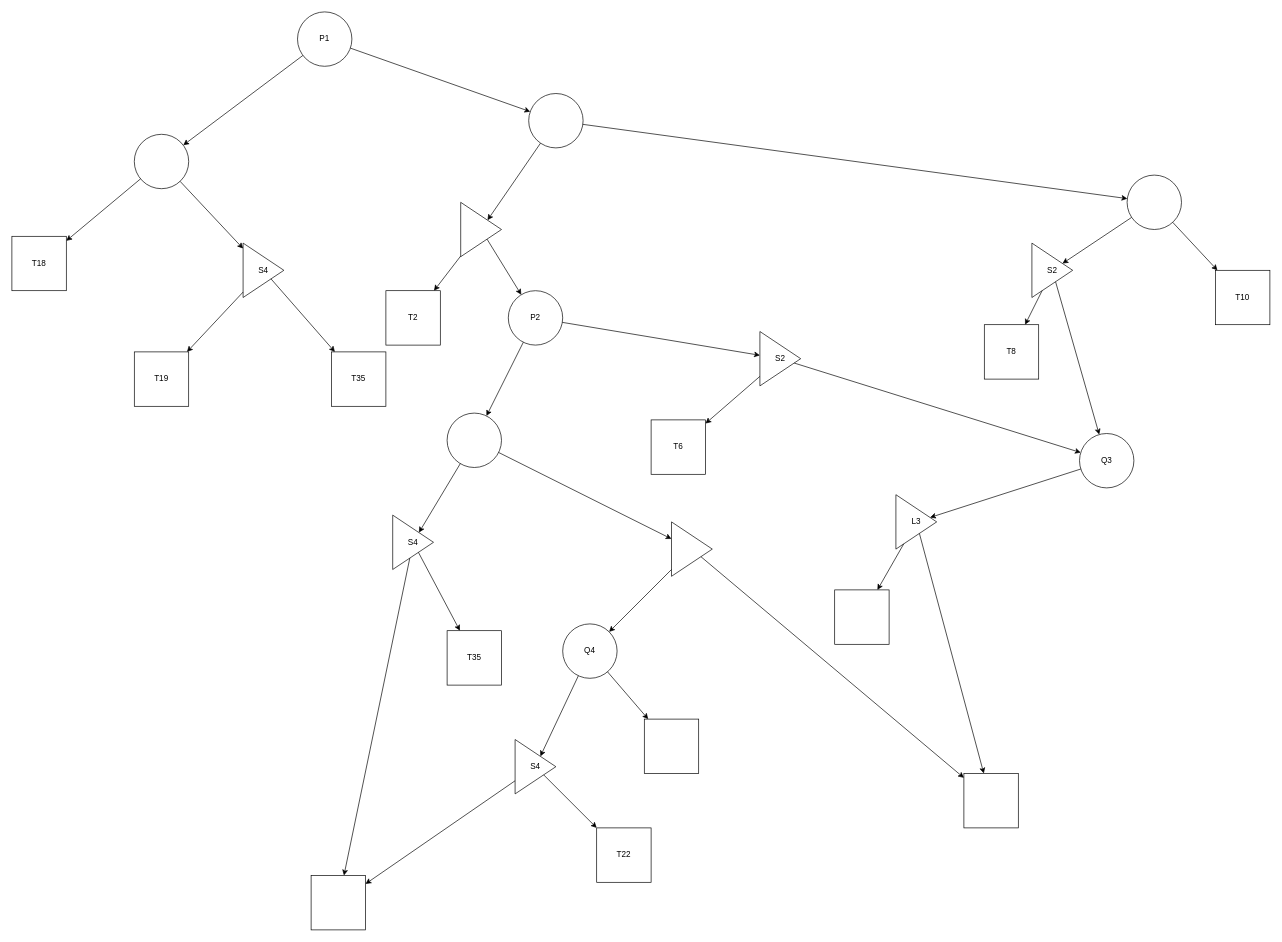
Image size: 1282x942. Some labels were removed from this diagram. Here are the shapes that lost their labels. From the top down, the centre of each, then its label:
(x=555, y=120): Q1
(x=161, y=161): P4
(x=1154, y=202): Q2
(x=481, y=229): S1
(x=474, y=440): P3
(x=691, y=548): S3
(x=861, y=616): T15
(x=671, y=746): T23
(x=990, y=800): T17
(x=338, y=902): T34
